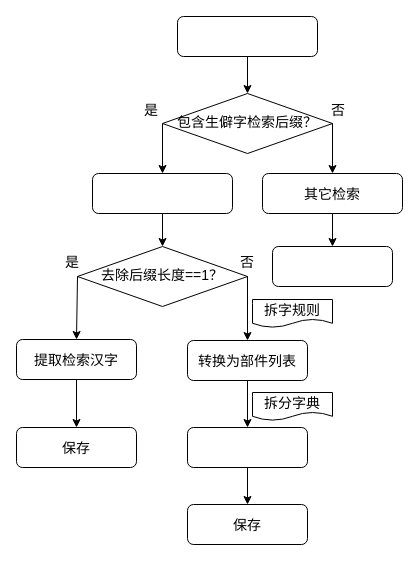
The diagram is 419 pixels wide and 561 high, and some of its shapes have lost their labels. The centre of each missing label's shape, as x and y in pixels:
丢弃: (332,266)
检索字符串: (247,36)
生僻字检索: (162,193)
部件列表转汉字: (247,447)
